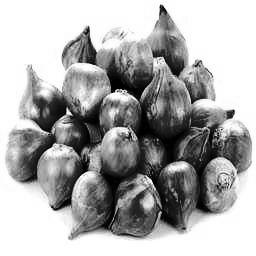bukan telur: (143, 62, 192, 135), (110, 177, 162, 236), (19, 64, 65, 127), (147, 5, 186, 73), (63, 62, 110, 117), (39, 145, 76, 208), (98, 127, 140, 174), (213, 122, 253, 169), (116, 34, 153, 83)
